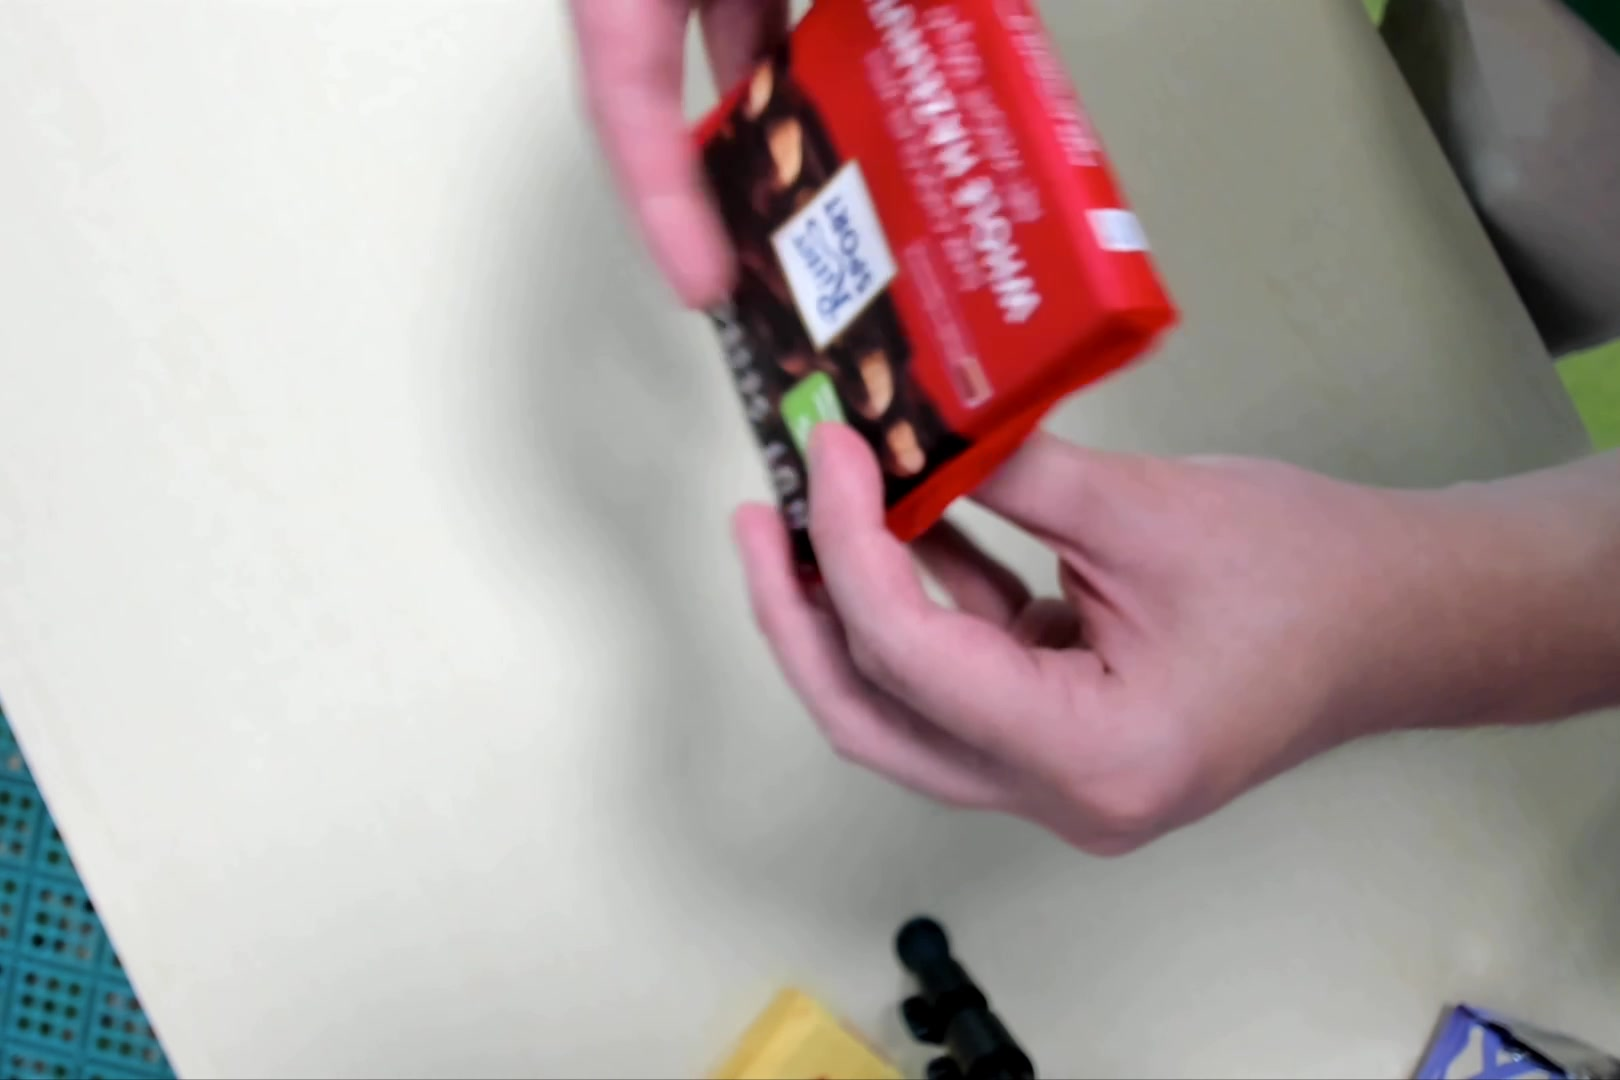SweetsChocolatesOthers_100-199g_NonHalal_NonHealthy: (673, 1, 1162, 589)
